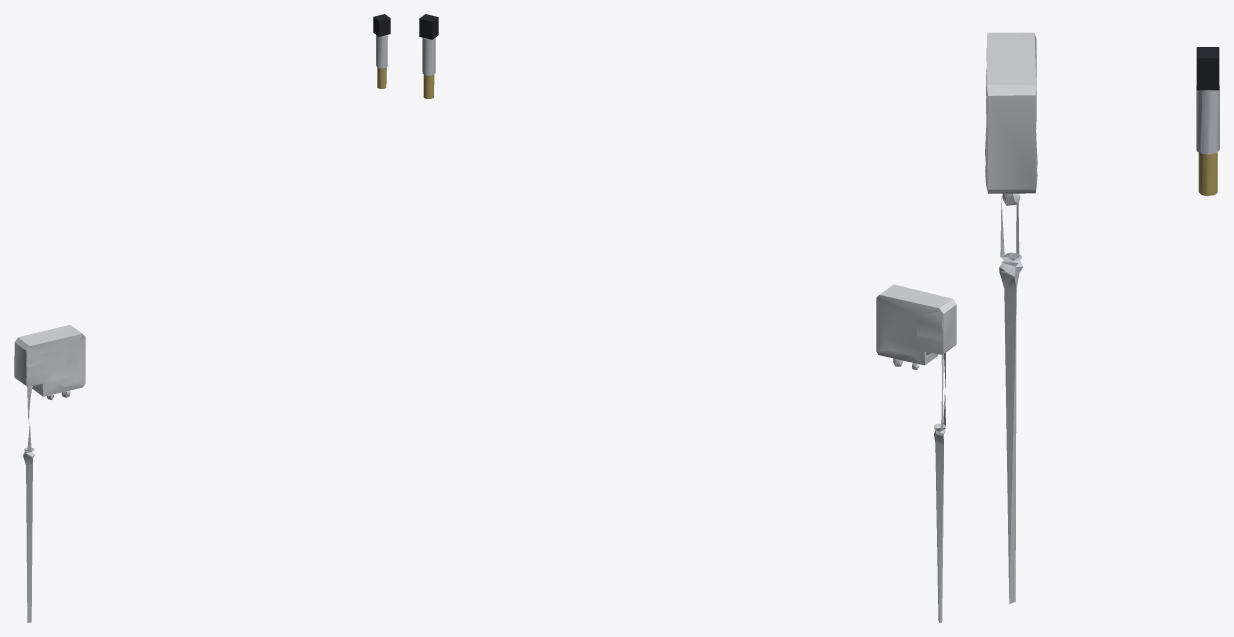
File: trim-comfort.glb
The picture shows the model from 3 angles, left to right: view 1: azimuth 30°, elevation 25°; view 2: azimuth 150°, elevation 25°; view 3: azimuth 270°, elevation 25°; orthographic projection. The views are drawn at different scales.
Visible parts, largest first — view 1: lcs600, pressure_transmitter; view 2: lcs600, pressure_transmitter; view 3: lcs600, pressure_transmitter.
Part boxes in pixels (x1,y1,x2,y2): lcs600: (14, 325, 85, 622); pressure_transmitter: (373, 14, 390, 88); lcs600: (876, 284, 956, 622); pressure_transmitter: (419, 14, 438, 98); lcs600: (985, 32, 1037, 603); pressure_transmitter: (1196, 47, 1219, 195).
Size of the model in its own units: 1.23 by 1.33 by 0.2997.
